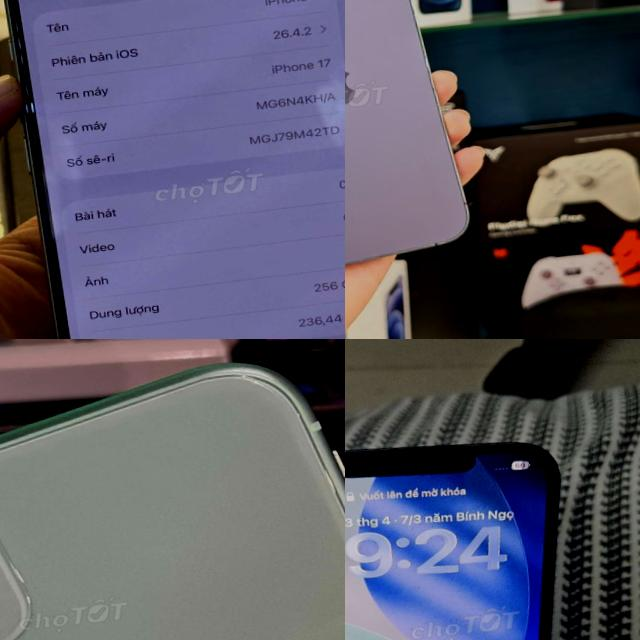gen_11: (0, 345, 345, 640)
gen_12_13: (345, 416, 590, 640)
gen_14: (345, 0, 480, 287)
gen_17: (0, 0, 345, 339)
